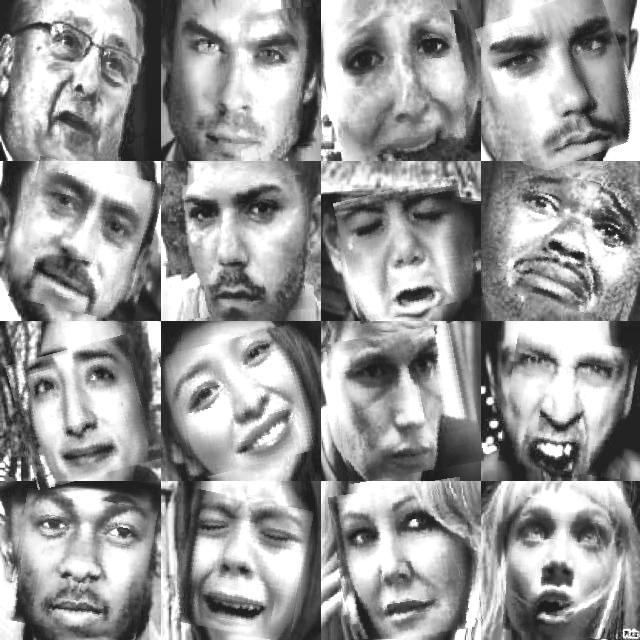angry: (176, 178, 313, 316), (502, 336, 634, 475)
fear: (506, 499, 628, 639)
happy: (164, 332, 314, 474)
neutral: (485, 0, 639, 168), (333, 481, 478, 640), (331, 327, 478, 479), (16, 163, 158, 319), (11, 493, 153, 637), (183, 9, 321, 150), (23, 9, 145, 157)
sad: (492, 171, 640, 314), (12, 340, 155, 483), (342, 12, 476, 154), (177, 494, 309, 638), (339, 182, 477, 318)
